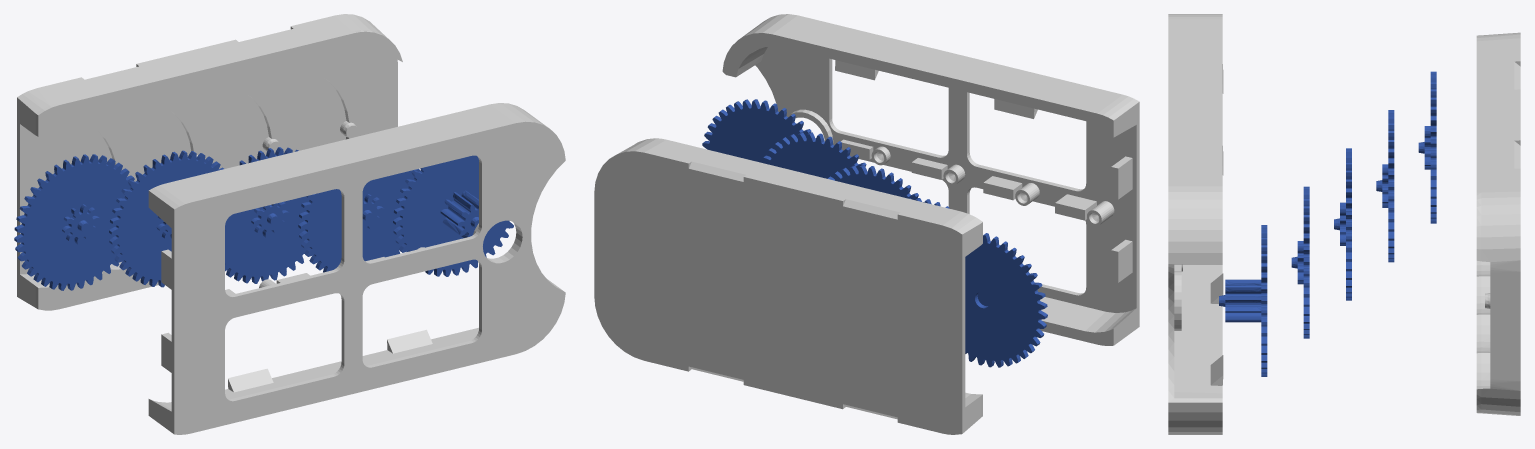
File: exploded.glb
The picture shows the model from 3 angles, left to right: view 1: azimuth 30°, elevation 25°; view 2: azimuth 150°, elevation 25°; view 3: azimuth 270°, elevation 25°; orthographic projection. The views are drawn at different scales.
Visible parts, largest first — view 1: Part_1_1, Part_1, Spur_gear_40_teeth, Spur_gear_40_teeth_4, Spur_gear_40_teeth_1, Spur_gear_40_teeth_2, Spur_gear_40_teeth_3; view 2: Part_1, Part_1_1, Spur_gear_40_teeth, Spur_gear_40_teeth_4, Spur_gear_40_teeth_2, Spur_gear_40_teeth_3; view 3: Part_1_1, Part_1, Spur_gear_40_teeth_4, Spur_gear_40_teeth_1, Spur_gear_40_teeth, Spur_gear_40_teeth_2, Spur_gear_40_teeth_3.
Part boxes in pixels (box(x1,y1,x2,y2)): Part_1_1: box(148, 103, 565, 434); Part_1: box(17, 14, 402, 310); Spur_gear_40_teeth: box(14, 154, 134, 290); Spur_gear_40_teeth_4: box(393, 155, 513, 276); Spur_gear_40_teeth_1: box(109, 150, 223, 287); Spur_gear_40_teeth_2: box(298, 169, 419, 272); Spur_gear_40_teeth_3: box(225, 147, 309, 283); Part_1: box(594, 138, 982, 434); Part_1_1: box(722, 14, 1139, 345); Spur_gear_40_teeth: box(965, 233, 1047, 367); Spur_gear_40_teeth_4: box(702, 99, 815, 163); Spur_gear_40_teeth_2: box(762, 132, 866, 178); Spur_gear_40_teeth_3: box(827, 165, 923, 202); Part_1_1: box(1168, 14, 1223, 434); Part_1: box(1476, 32, 1520, 415); Spur_gear_40_teeth_4: box(1219, 225, 1267, 376); Spur_gear_40_teeth_1: box(1376, 110, 1394, 262); Spur_gear_40_teeth: box(1418, 71, 1436, 223); Spur_gear_40_teeth_2: box(1291, 186, 1309, 338); Spur_gear_40_teeth_3: box(1334, 148, 1351, 300).
Size of the model in its own units: 85.29 by 44.4 by 58.3.
